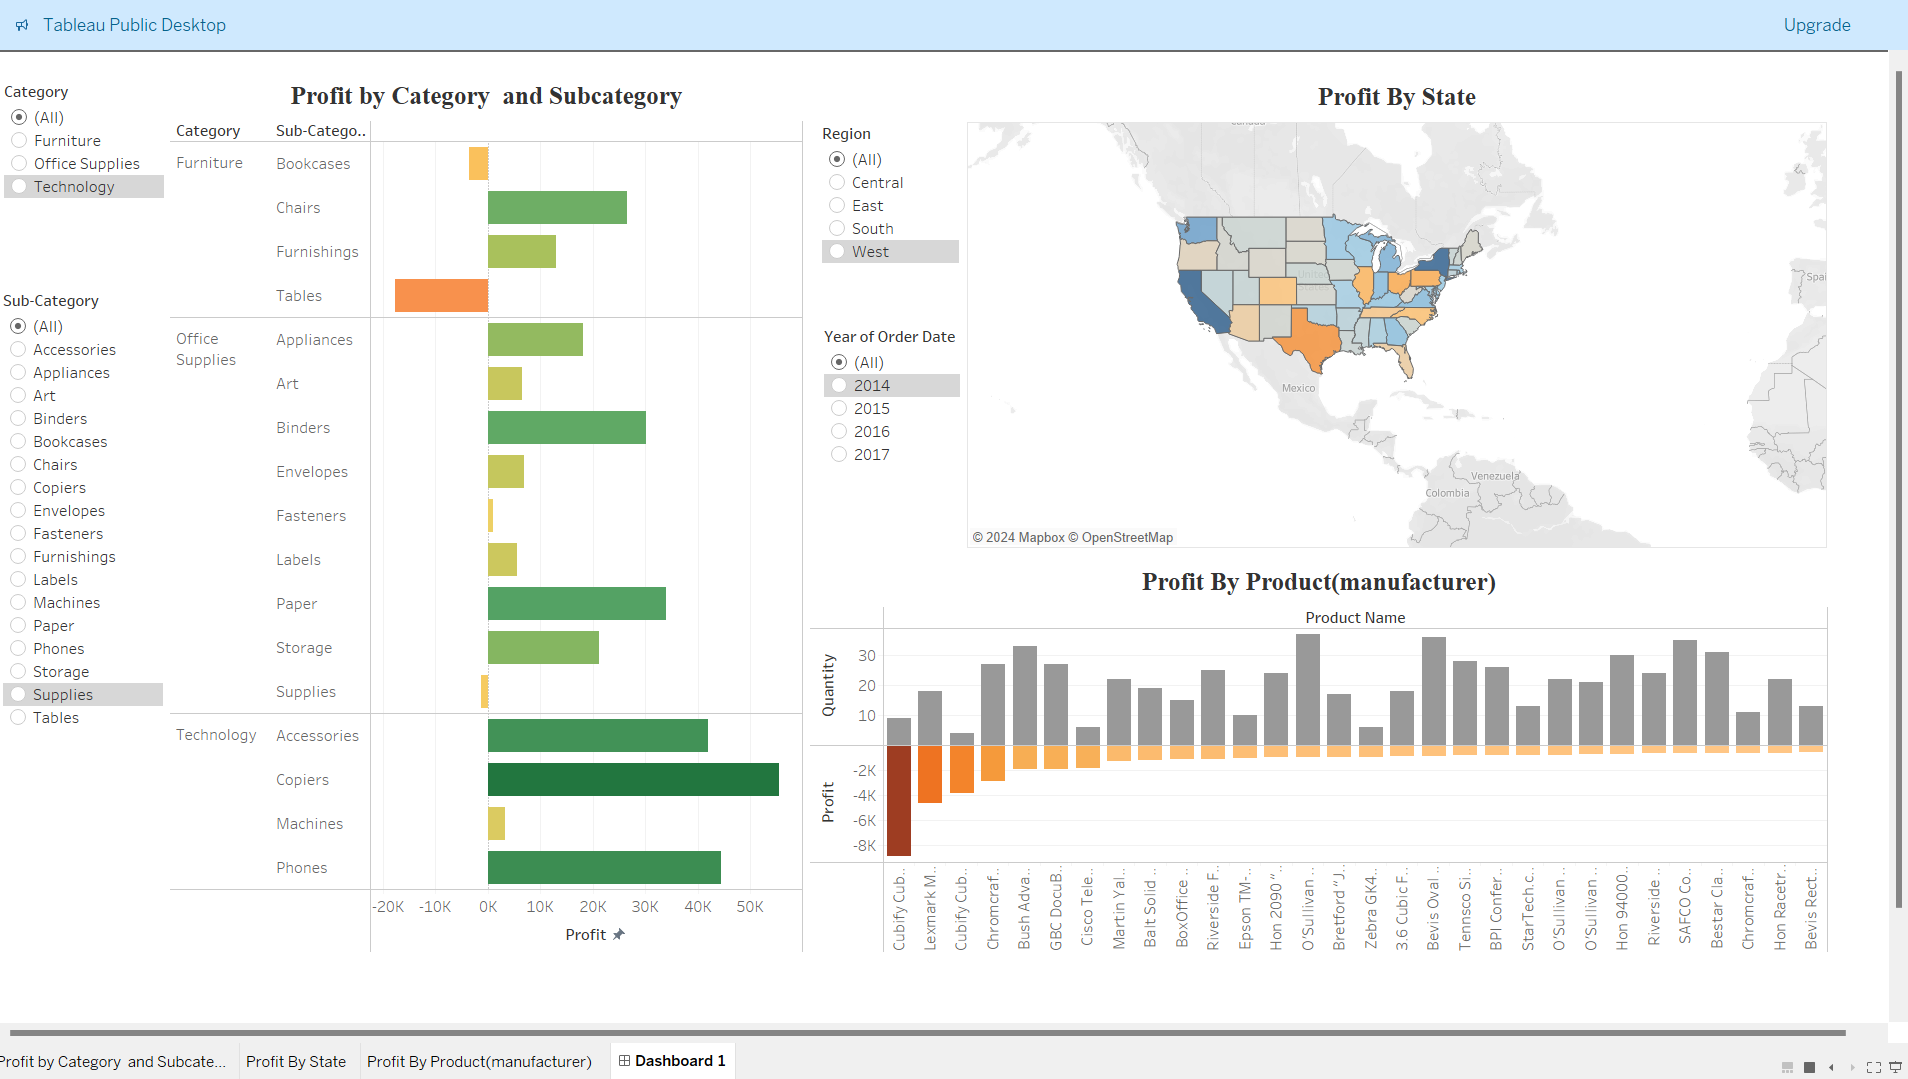

The page's visual inventory and layout, read from the dashboard file:
{"tool":"tableau","page":{"name":"Dashboard 1","canvas":[1000,1000],"units":"permille","ordinal":0},"visuals":[{"type":"worksheet","title":"Profit by Category  and Subcategory","mark":"Automatic","rows":["Category","Sub-Category"],"cols":["Profit"],"box":[94.3,25.9,329.7,810.2]},{"type":"worksheet","title":"Profit By State","mark":"Automatic","box":[509.4,26.9,447.9,434.3]},{"type":"filter","title":"Profit by Category  and Subcategory","param":"[federated.0rlb89r0pdl5zq18eb45v0fq0u38].[none:Category:nk]","box":[7.8,28.7,83.3,193.5]},{"type":"filter","title":"Profit By State","param":"[federated.0rlb89r0pdl5zq18eb45v0fq0u38].[none:Region:nk]","box":[433.9,67.6,71.4,181.5]},{"type":"filter","title":"Profit by Category  and Subcategory","param":"[federated.0rlb89r0pdl5zq18eb45v0fq0u38].[none:Sub-Category:nk]","box":[7.3,222.2,83.3,601.9]},{"type":"filter","title":"Profit By State","param":"[federated.0rlb89r0pdl5zq18eb45v0fq0u38].[yr:Order Date:ok]","box":[434.9,255.6,70.8,203.7]},{"type":"worksheet","title":"Profit By Product(manufacturer)","mark":"Automatic","rows":["Quantity","Profit"],"cols":["Product Name"],"box":[427.6,475.9,530.2,360.2]}]}

Visuals, with their boxes on the dashboard's canvas, which has no fixed pixel size, in thousandths of its width and height (x1, y1, x2, y2). These are canvas units, not pixel positions in the 1908x1079 screenshot, which may show the page scaled, cropped or inside an application window:
"Profit by Category  and Subcategory" worksheet: [x1=94, y1=26, x2=424, y2=836]
"Profit By State" worksheet: [x1=509, y1=27, x2=957, y2=461]
"Profit by Category  and Subcategory" filter: [x1=8, y1=29, x2=91, y2=222]
"Profit By State" filter: [x1=434, y1=68, x2=505, y2=249]
"Profit by Category  and Subcategory" filter: [x1=7, y1=222, x2=91, y2=824]
"Profit By State" filter: [x1=435, y1=256, x2=506, y2=459]
"Profit By Product(manufacturer)" worksheet: [x1=428, y1=476, x2=958, y2=836]
